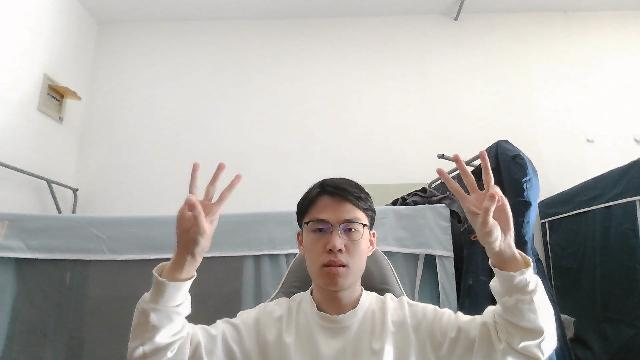three: (430, 146, 523, 265), (169, 157, 243, 269)
